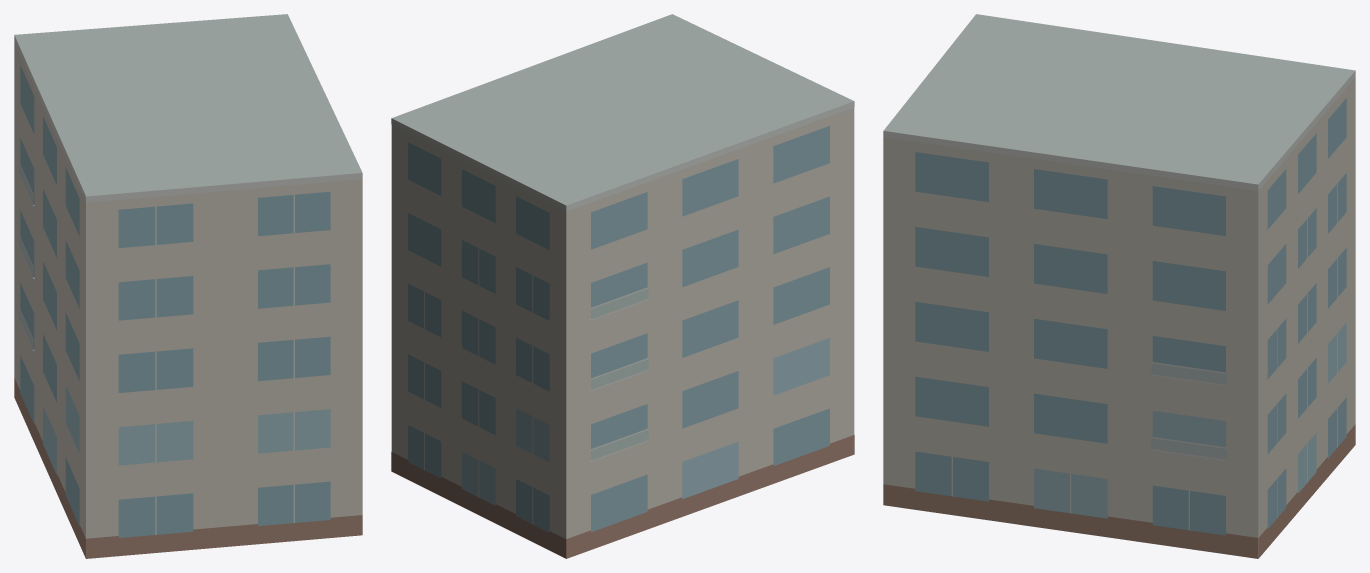
Rendered from survey-upis-32890788.glb.
3 renders of one model, left to right at view 1: azimuth 30°, elevation 25°; view 2: azimuth 150°, elevation 25°; view 3: azimuth 270°, elevation 25°, orthographic. The views are drawn at different scales.
Parts seen in each view (by area): view 1: survey-upis-32890788.tmp; view 2: survey-upis-32890788.tmp; view 3: survey-upis-32890788.tmp.
Boxes of the visible parts, x1,y1,x2,y2 form: survey-upis-32890788.tmp: (14, 14, 362, 558); survey-upis-32890788.tmp: (391, 14, 854, 558); survey-upis-32890788.tmp: (883, 14, 1355, 558).
Bounding box in the file's own units: 13.88 × 14.2 × 16.25.
